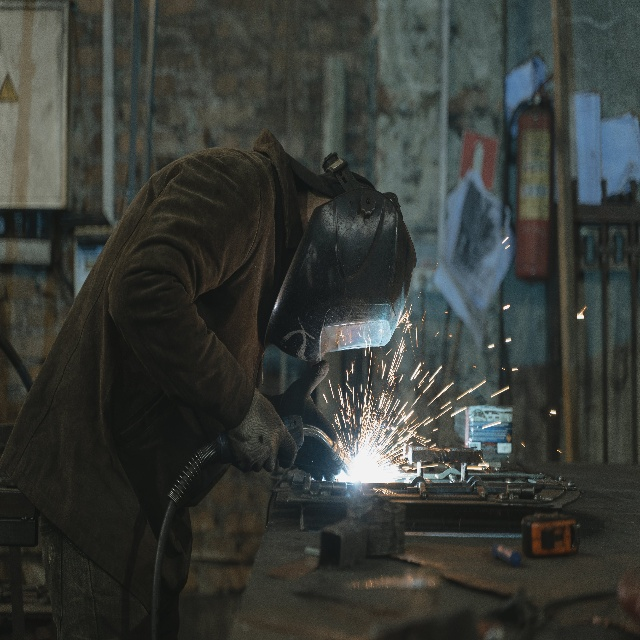Guantes: (271, 359, 347, 484), (228, 384, 297, 477)
